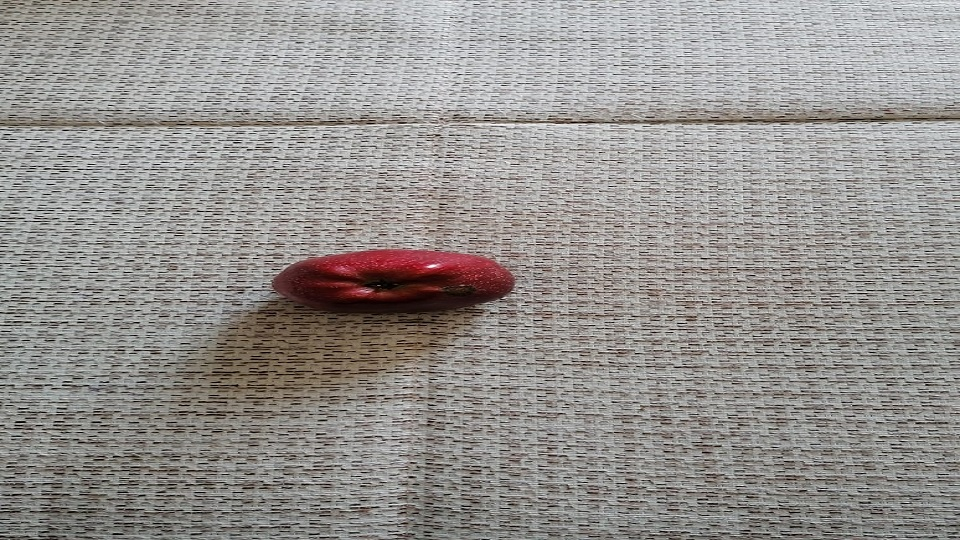elma: (271, 247, 516, 315)
